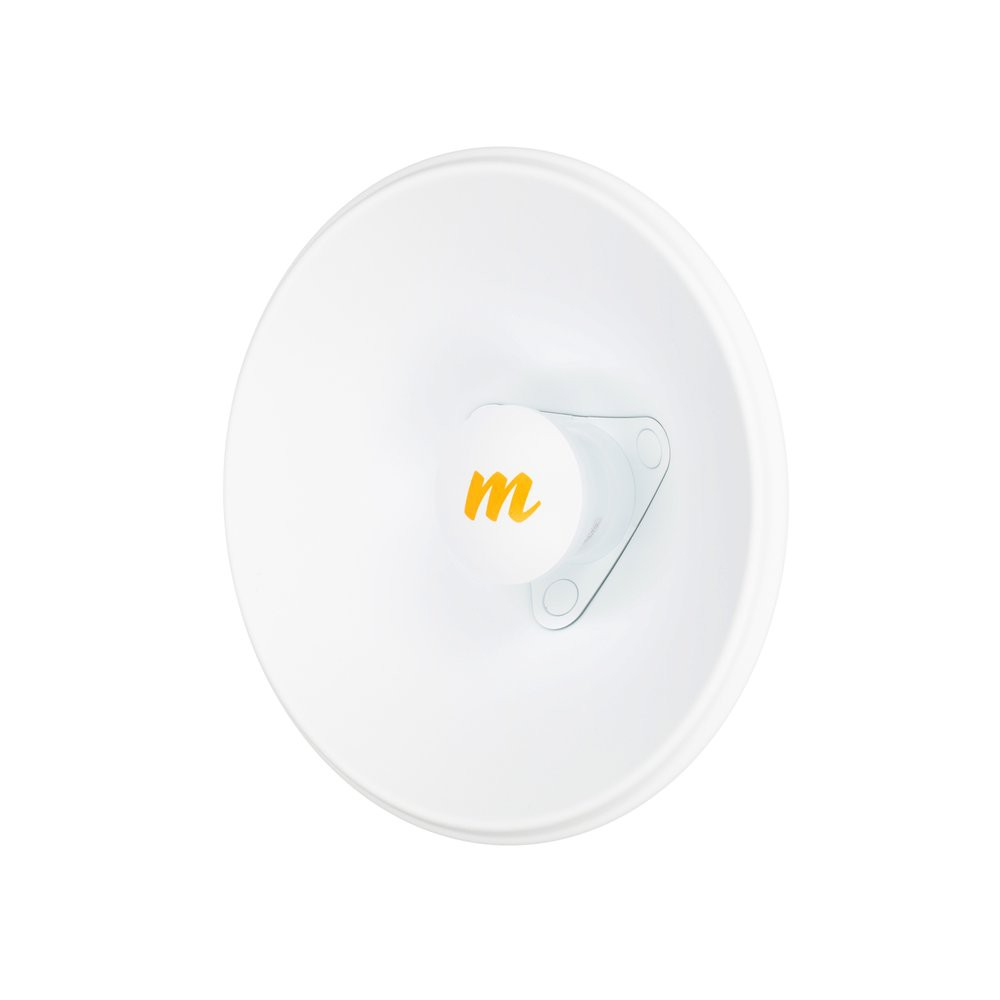ba: (185, 119, 814, 874)
